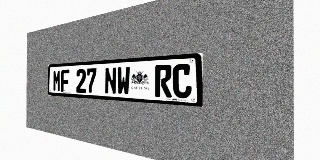2: (76, 69, 86, 93)
7: (86, 68, 96, 94)
C: (173, 64, 192, 99)
F: (61, 69, 69, 92)
M: (53, 70, 61, 92)
N: (104, 67, 117, 95)
R: (155, 64, 172, 98)
W: (117, 66, 130, 95)
